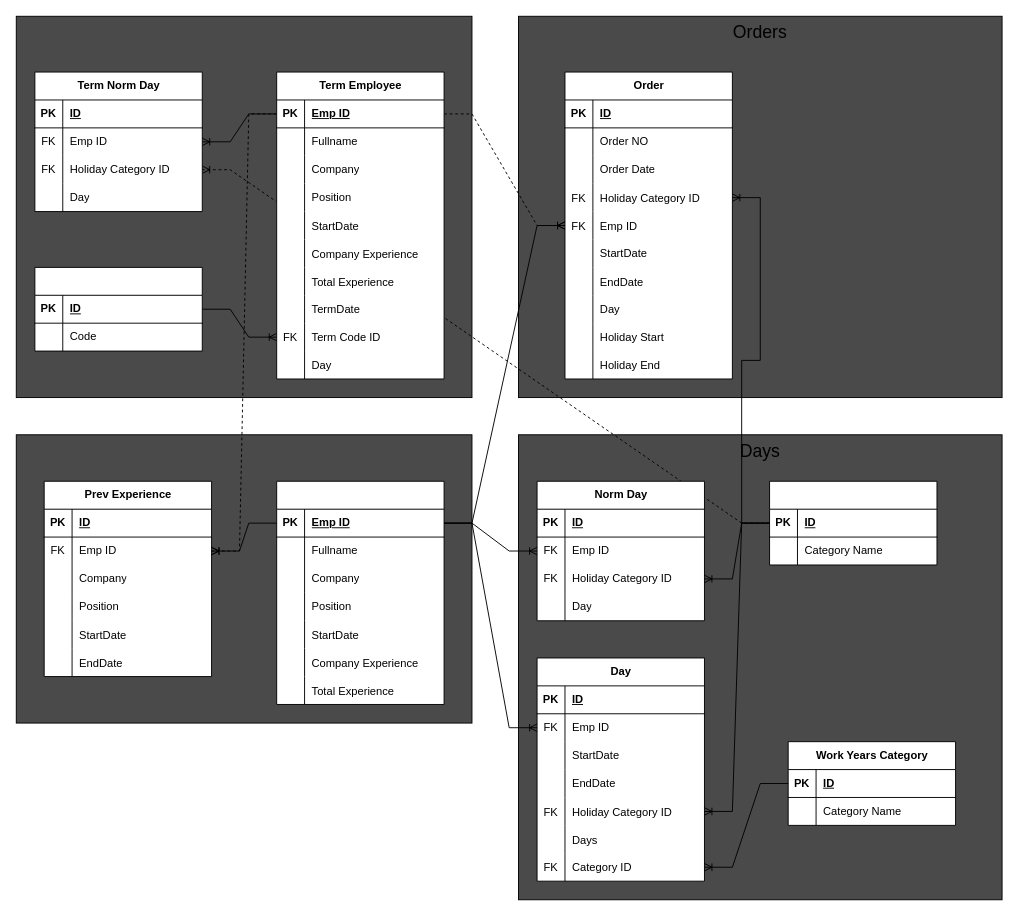
Image size: 1018x916. Some labels were removed from this diagram. Here are the shapes that lost their labels. From the top down, the box of each, then its label:
(15, 15, 472, 398): Terminations
(34, 266, 202, 351): Term Code
(769, 480, 937, 565): Holiday Category
(15, 434, 472, 723): Employees
(276, 480, 444, 704): Employee
